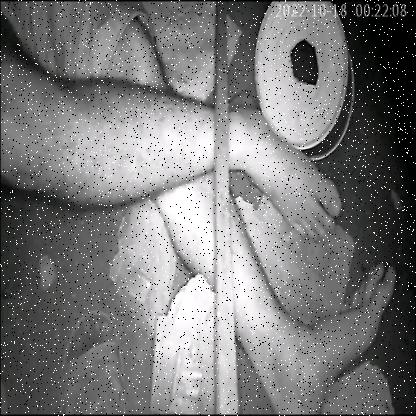leg: (0, 41, 350, 252), (154, 193, 403, 416)
